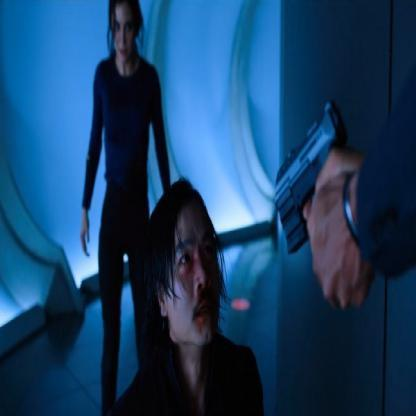Pistol: (263, 90, 368, 288)
